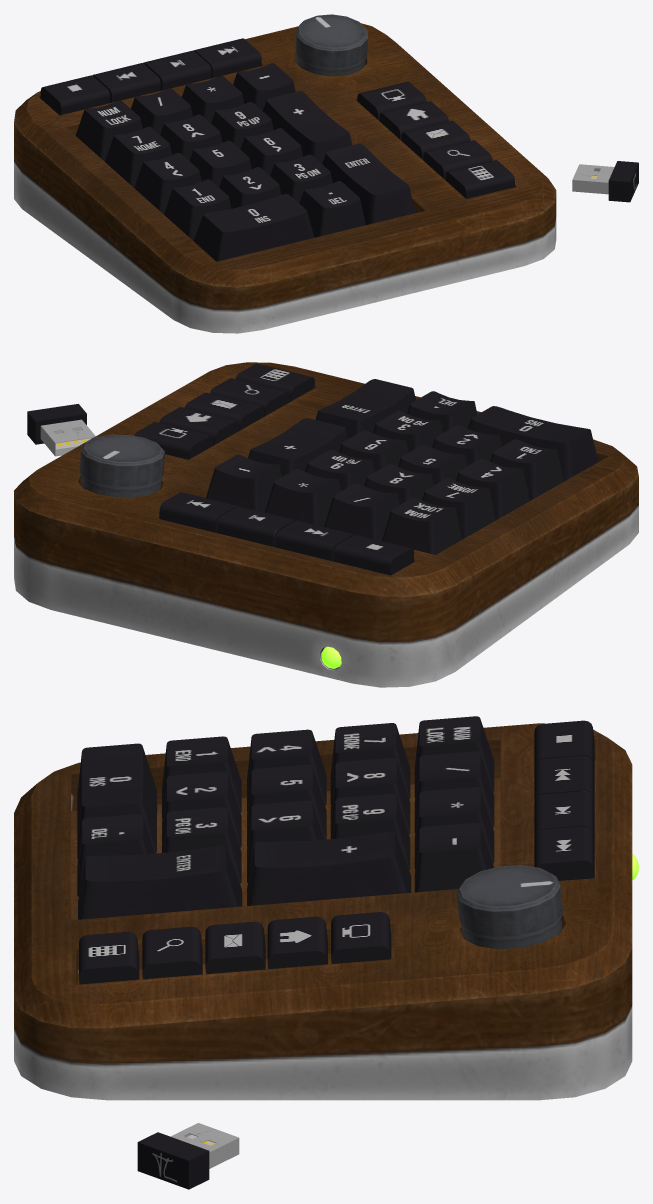
The model's file is old_numeric_keypad.glb.
3 renders of one model, top to bottom at view 1: azimuth 30°, elevation 25°; view 2: azimuth 150°, elevation 25°; view 3: azimuth 270°, elevation 25°, orthographic. The views are drawn at different scales.
Visible parts, largest first — view 1: base_low, tecla_grande_low_03, tecla_grande_low_02, volume_low, tecla_grande_low_01, tecla_pequena_low_14, tecla_pequena_low_04, tecla_pequena_low_01, tecla_pequena_low_07, tecla_pequena_low_10, tecla_media_low_09, tecla_media_low_01 (+18 smaller); view 2: base_low, volume_low, tecla_grande_low_03, tecla_pequena_low_10, tecla_grande_low_02, tecla_grande_low_01, tecla_pequena_low_12, tecla_pequena_low_13, tecla_pequena_low_11, tecla_pequena_low_01, tecla_pequena_low_07, tecla_pequena_low_04 (+18 smaller); view 3: base_low, tecla_grande_low_01, tecla_grande_low_02, volume_low, tecla_grande_low_03, tecla_pequena_low_13, tecla_pequena_low_03, tecla_pequena_low_09, usb_01_low, tecla_pequena_low_14, tecla_pequena_low_11, tecla_pequena_low_08 (+18 smaller).
Boxes of the visible parts, left/top/right/bottom form: base_low: left=14, top=23, right=556, bottom=333; tecla_grande_low_03: left=193, top=194, right=314, bottom=261; tecla_grande_low_02: left=322, top=143, right=415, bottom=225; volume_low: left=295, top=14, right=367, bottom=76; tecla_grande_low_01: left=263, top=91, right=352, bottom=163; tecla_pequena_low_14: left=299, top=181, right=365, bottom=237; tecla_pequena_low_04: left=134, top=153, right=201, bottom=214; tecla_pequena_low_01: left=164, top=179, right=231, bottom=240; tecla_pequena_low_07: left=105, top=126, right=172, bottom=187; tecla_pequena_low_10: left=75, top=100, right=142, bottom=161; tecla_media_low_09: left=40, top=75, right=110, bottom=115; tecla_media_low_01: left=445, top=160, right=514, bottom=198; base_low: left=14, top=362, right=638, bottom=687; volume_low: left=79, top=434, right=164, bottom=497; tecla_grande_low_03: left=467, top=406, right=598, bottom=481; tecla_pequena_low_10: left=382, top=497, right=462, bottom=554; tecla_grande_low_02: left=315, top=379, right=415, bottom=438; tecla_grande_low_01: left=248, top=418, right=348, bottom=476; tecla_pequena_low_12: left=265, top=469, right=340, bottom=526; tecla_pequena_low_13: left=206, top=454, right=281, bottom=512; tecla_pequena_low_11: left=324, top=483, right=399, bottom=540; tecla_pequena_low_01: left=490, top=439, right=563, bottom=500; tecla_pequena_low_07: left=422, top=478, right=495, bottom=539; tecla_pequena_low_04: left=456, top=459, right=529, bottom=519; base_low: left=14, top=723, right=632, bottom=1100; tecla_grande_low_01: left=247, top=831, right=411, bottom=905; tecla_grande_low_02: left=78, top=845, right=242, bottom=919; volume_low: left=456, top=865, right=563, bottom=949; tecla_grande_low_03: left=77, top=743, right=156, bottom=859; tecla_pequena_low_13: left=414, top=822, right=494, bottom=892; tecla_pequena_low_03: left=162, top=807, right=241, bottom=883; tecla_pequena_low_09: left=331, top=793, right=410, bottom=869; usb_01_low: left=137, top=1132, right=209, bottom=1189; tecla_pequena_low_14: left=77, top=814, right=154, bottom=896; tecla_pequena_low_11: left=414, top=751, right=494, bottom=832; tecla_pequena_low_08: left=330, top=758, right=410, bottom=838.
Bounding box in the file's own units: 5.41 × 1.26 × 4.14.
2 materials, 2 textured.
